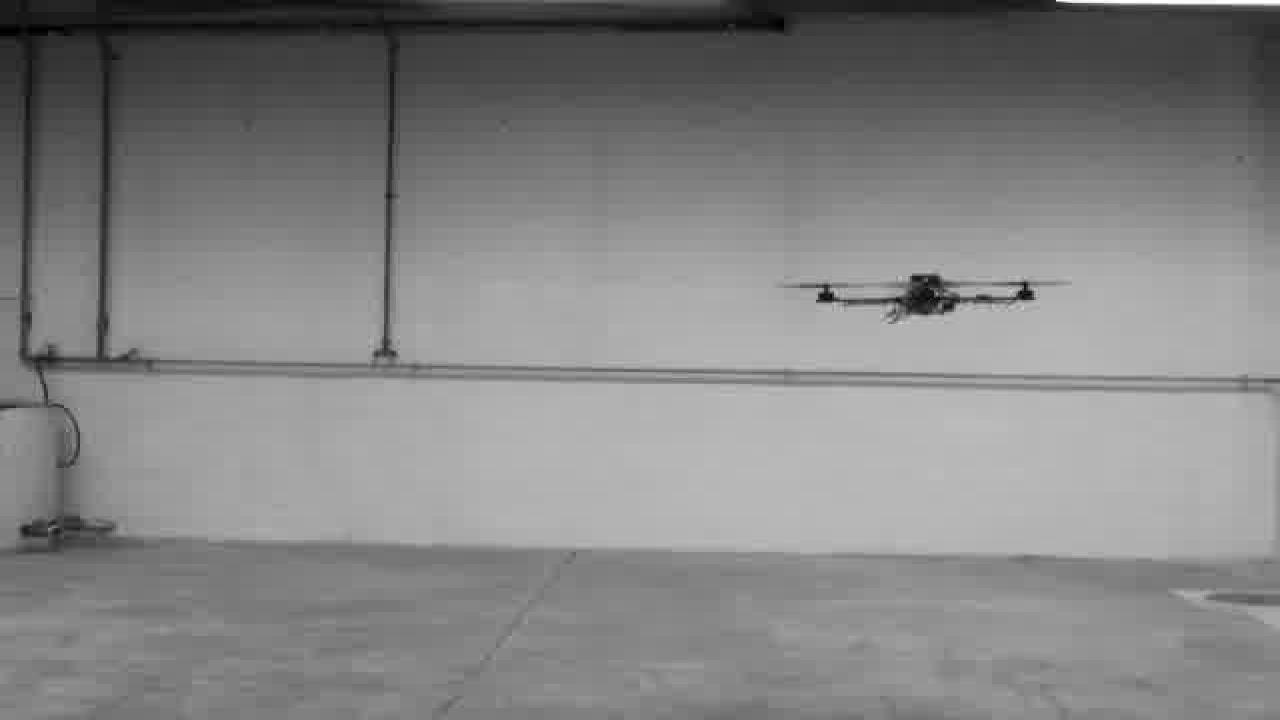Drone: (763, 258, 1087, 334)
